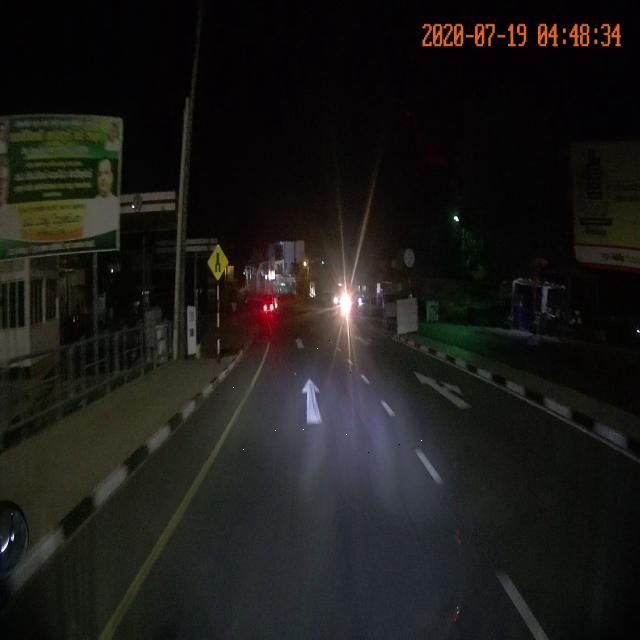forward: (202, 368, 424, 463), (263, 326, 344, 360)
